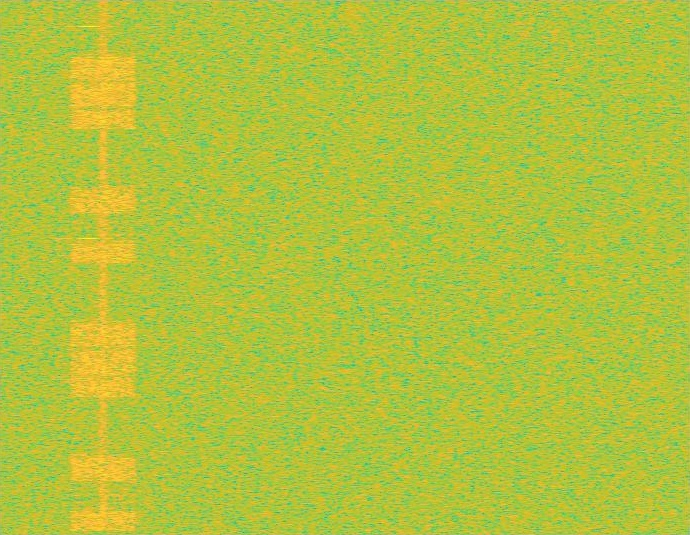DSSS: (99, 0, 108, 534)
LTE: (69, 0, 138, 534)
Radar: (82, 0, 96, 534)
